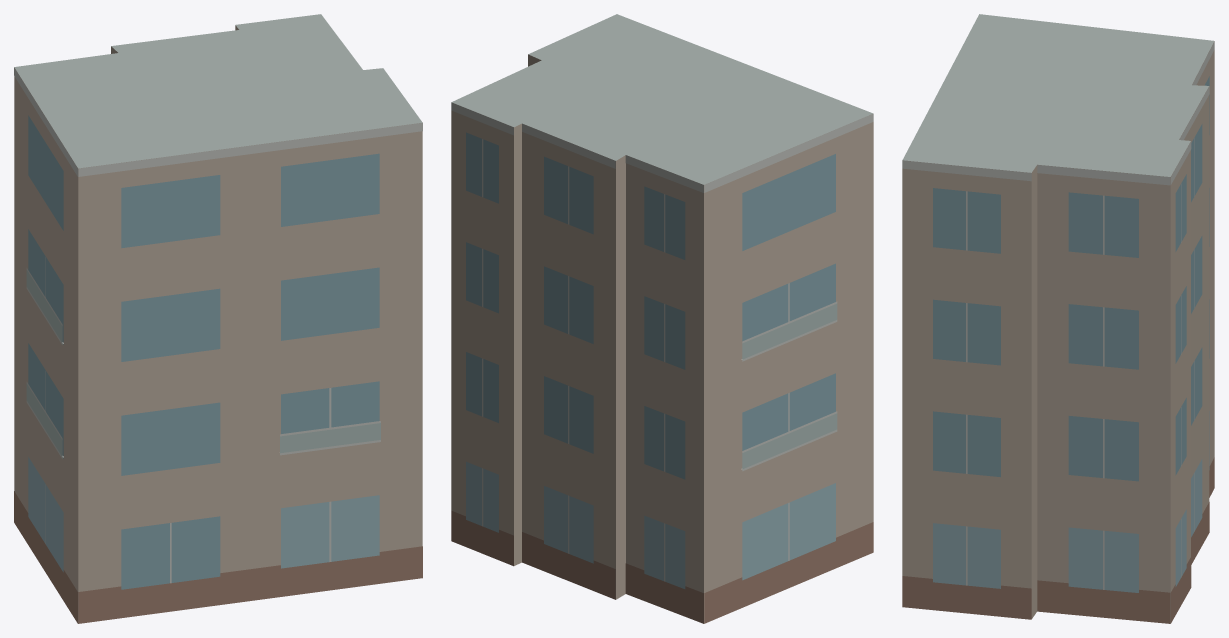
The model's file is survey-upis-32897593.glb.
3 views of the same model, side by side, from view 1: azimuth 30°, elevation 25°; view 2: azimuth 150°, elevation 25°; view 3: azimuth 270°, elevation 25° (orthographic). The views are drawn at different scales.
Visible parts, largest first — view 1: survey-upis-32897593.tmp; view 2: survey-upis-32897593.tmp; view 3: survey-upis-32897593.tmp.
Boxes of the visible parts, x1=… form: survey-upis-32897593.tmp: x1=14, y1=14, x2=422, y2=623; survey-upis-32897593.tmp: x1=451, y1=14, x2=873, y2=623; survey-upis-32897593.tmp: x1=902, y1=14, x2=1214, y2=623.
Size of the model in its own units: 10.18 by 13 by 8.25.
